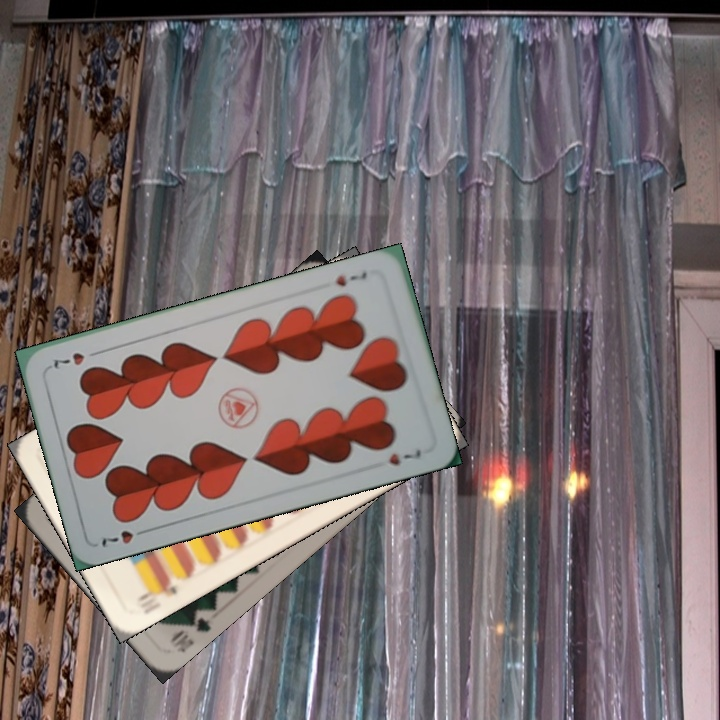E10: (133, 574, 180, 617)
G10: (166, 608, 214, 655)
H7: (97, 524, 152, 550), (332, 268, 370, 289)
